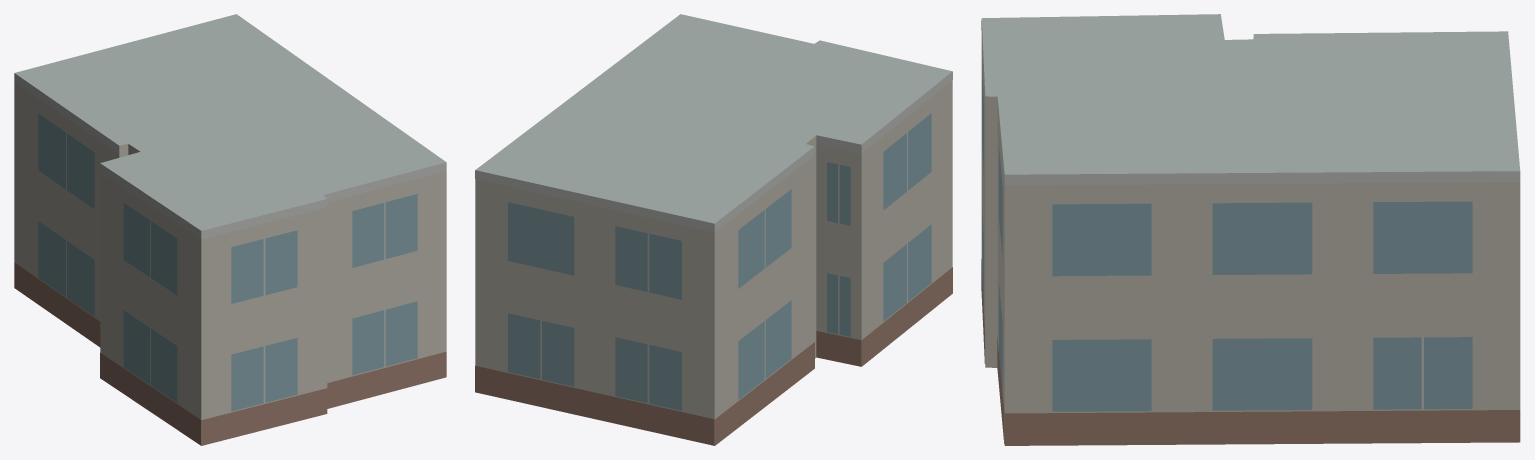
The model's file is survey-upis-32962762.glb.
3 renders of one model, left to right at view 1: azimuth 30°, elevation 25°; view 2: azimuth 150°, elevation 25°; view 3: azimuth 270°, elevation 25°, orthographic. The views are drawn at different scales.
Parts seen in each view (by area): view 1: survey-upis-32962762.tmp; view 2: survey-upis-32962762.tmp; view 3: survey-upis-32962762.tmp.
Boxes of the visible parts, left/top/right/bottom form: survey-upis-32962762.tmp: left=14, top=14, right=446, bottom=445; survey-upis-32962762.tmp: left=475, top=14, right=952, bottom=445; survey-upis-32962762.tmp: left=981, top=14, right=1520, bottom=445.
Size of the model in its own units: 7.76 by 6.1 by 10.99.
